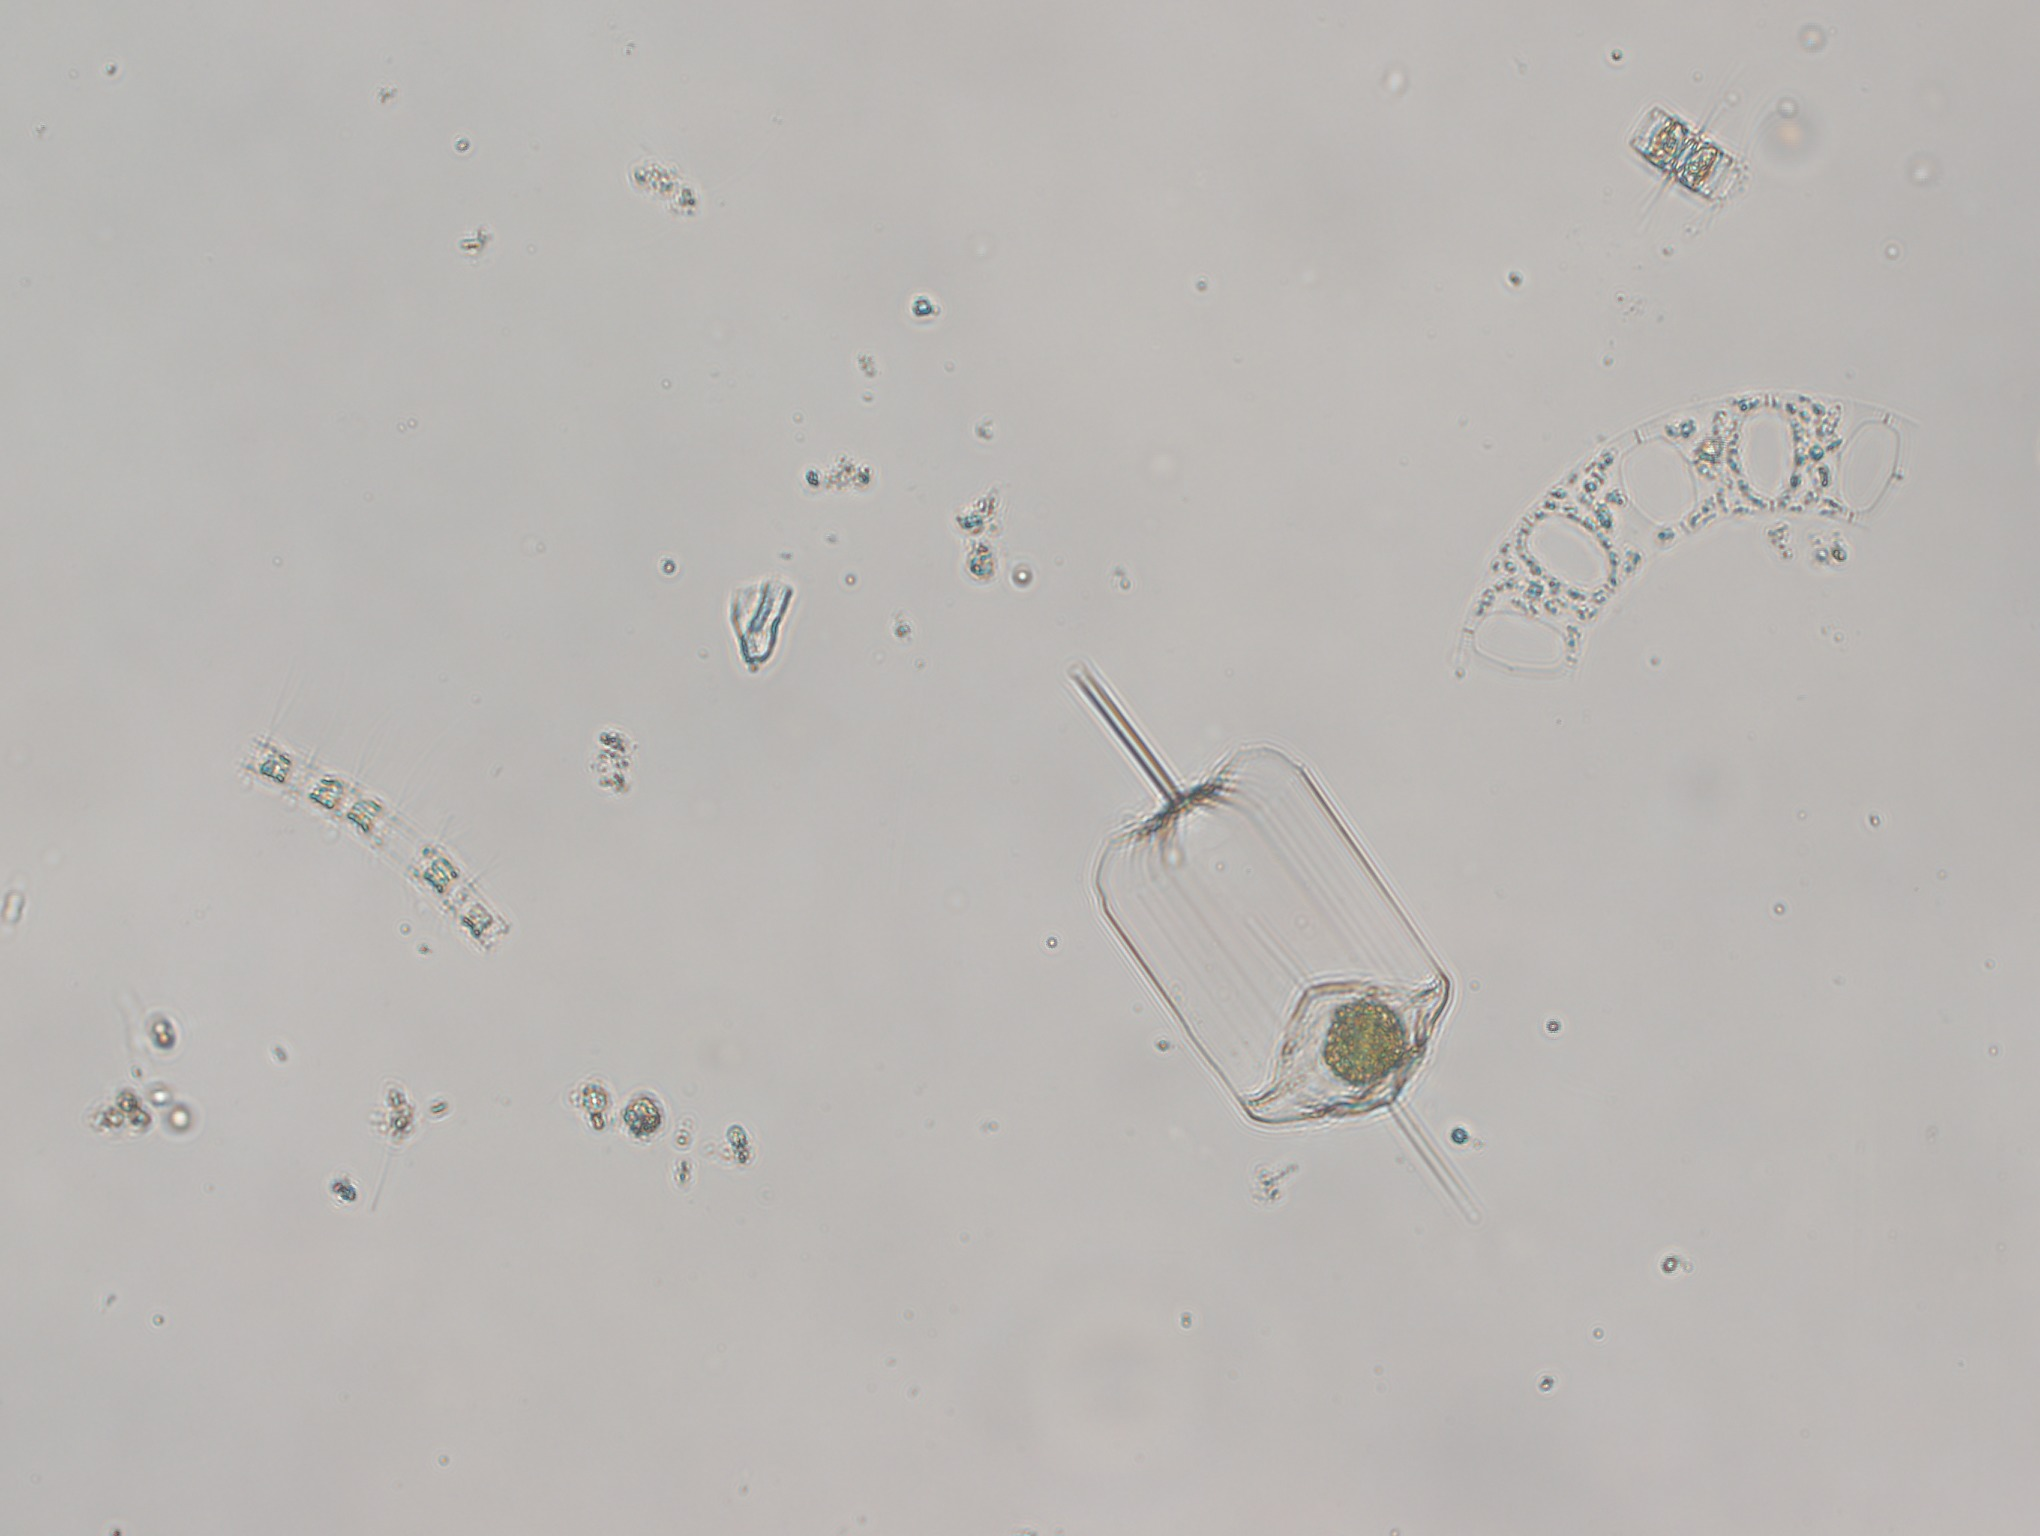chaetoceros: (213, 712, 518, 975), (1580, 73, 1772, 239)
ditylum: (1034, 649, 1487, 1234)
eucampia: (1442, 390, 1955, 681)
